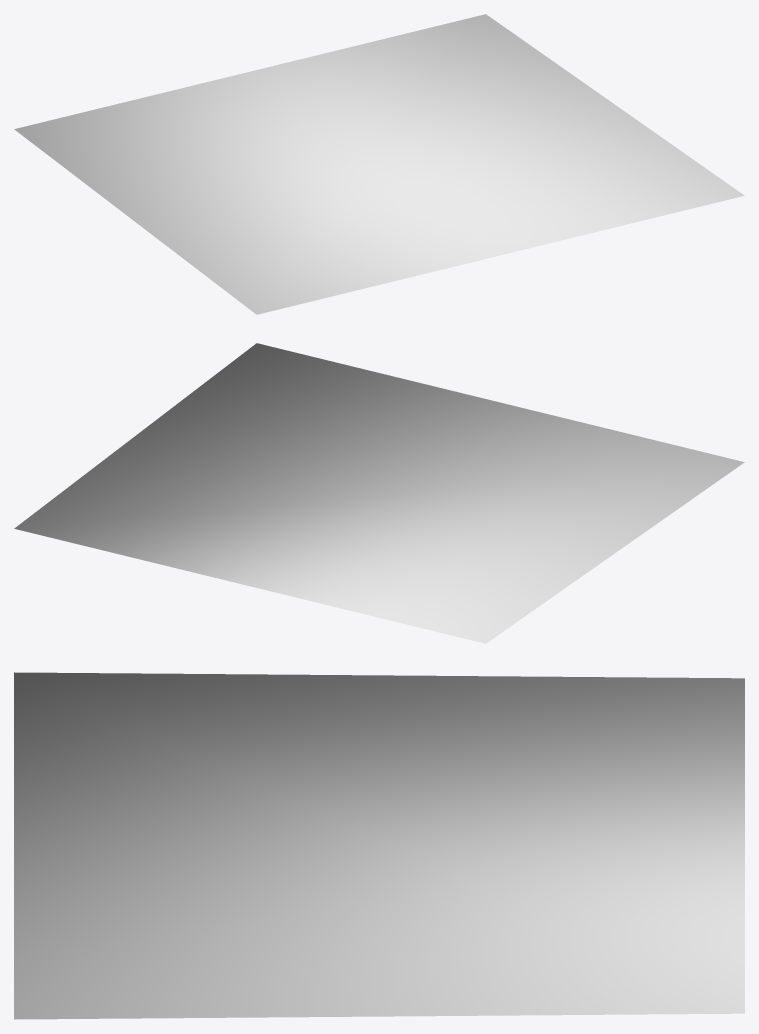
The model's file is page.glb.
The picture shows the model from 3 angles, top to bottom: view 1: azimuth 30°, elevation 25°; view 2: azimuth 150°, elevation 25°; view 3: azimuth 270°, elevation 25°; orthographic projection. The views are drawn at different scales.
Parts seen in each view (by area): view 1: Book.002; view 2: Book.002; view 3: Book.002.
Part boxes in pixels (<box>): Book.002: <box>14,14,744,314</box>; Book.002: <box>14,343,744,643</box>; Book.002: <box>14,672,744,1019</box>.
Bounding box in the file's own units: 0.6697 × 1.79e-07 × 0.5962.
1 material, 1 textured.
